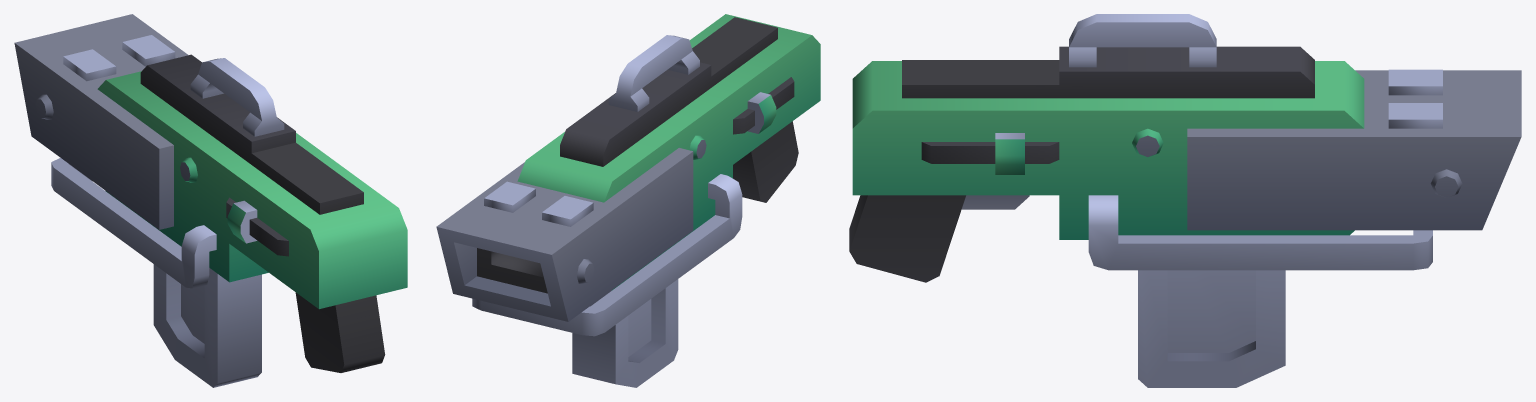
Rendered from beam_gun.glb.
The picture shows the model from 3 angles, left to right: view 1: azimuth 30°, elevation 25°; view 2: azimuth 150°, elevation 25°; view 3: azimuth 270°, elevation 25°; orthographic projection. The views are drawn at different scales.
Parts seen in each view (by area): view 1: blaster-r, magazine; view 2: blaster-r, magazine; view 3: blaster-r, magazine.
Part boxes in pixels (bbox=[...]): blaster-r: bbox=[14, 14, 407, 372]; magazine: bbox=[153, 264, 261, 387]; blaster-r: bbox=[436, 14, 820, 336]; magazine: bbox=[572, 279, 678, 387]; blaster-r: bbox=[849, 14, 1521, 282]; magazine: bbox=[1138, 270, 1285, 387].
Bounding box in the file's own units: 0.18 × 0.4009 × 0.6834.
1 material, 1 textured.
